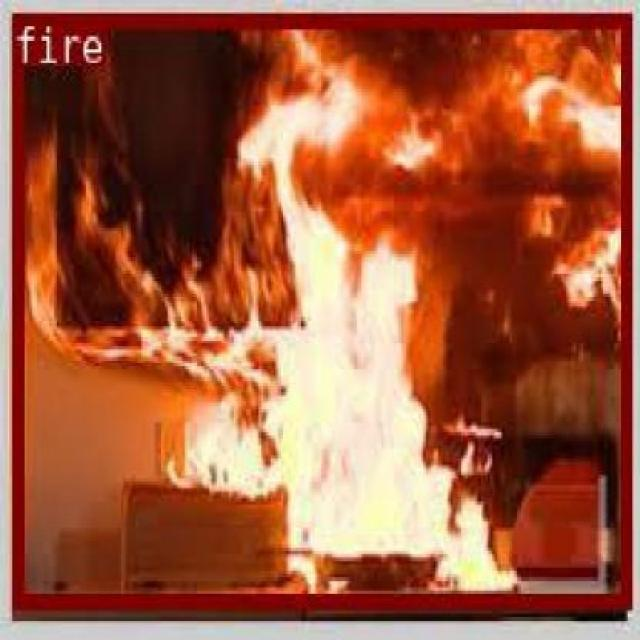Fire: (9, 11, 628, 604)
